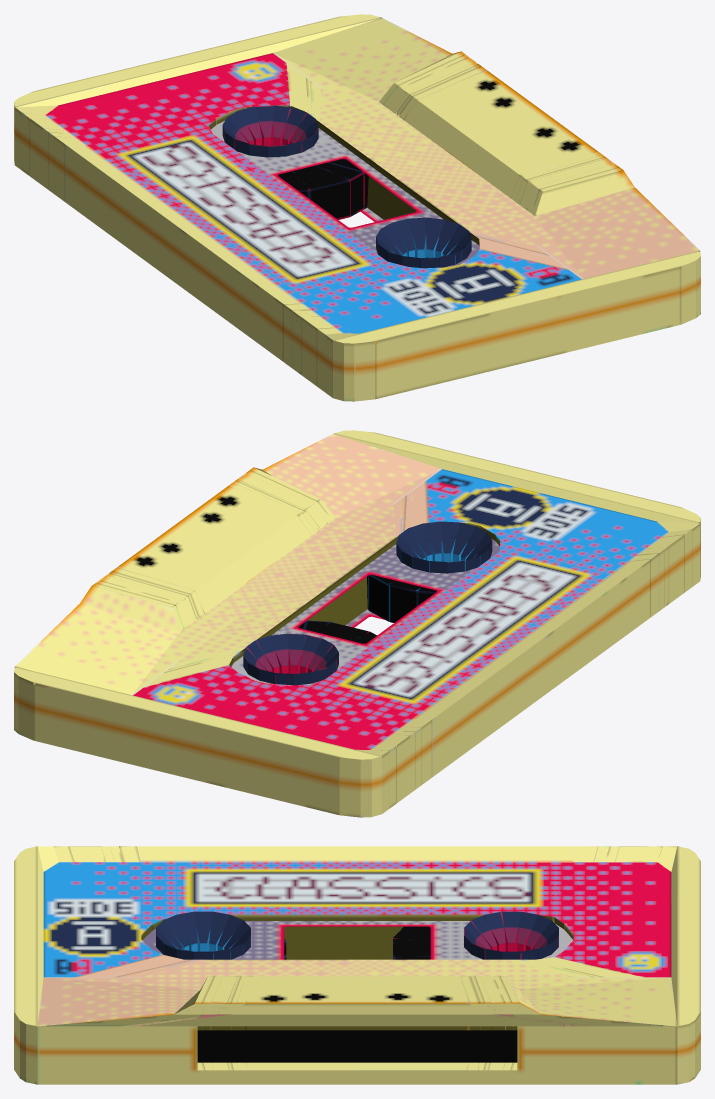
The model's file is Floating Casette finished case only.fbx.
3 views of the same model, one above another, from view 1: azimuth 30°, elevation 25°; view 2: azimuth 150°, elevation 25°; view 3: azimuth 270°, elevation 25° (orthographic).
Parts seen in each view (by area): view 1: cube, cylinder_1, plane_1, cylinder; view 2: cube, cylinder, cylinder_1, plane_1; view 3: cube, cube_1, cylinder_1, plane_1, cylinder.
Boxes of the visible parts, bbox=[...] form: cube: bbox=[14, 14, 700, 401]; cylinder_1: bbox=[222, 105, 368, 219]; plane_1: bbox=[211, 105, 479, 267]; cylinder: bbox=[376, 217, 471, 268]; cube: bbox=[14, 430, 700, 817]; cylinder: bbox=[367, 521, 492, 622]; cylinder_1: bbox=[243, 620, 376, 685]; plane_1: bbox=[231, 539, 499, 685]; cube: bbox=[14, 846, 700, 1084]; cube_1: bbox=[197, 1030, 517, 1062]; cylinder_1: bbox=[393, 911, 558, 959]; plane_1: bbox=[142, 921, 572, 959]; cylinder: bbox=[156, 911, 286, 959].
Bounding box in the file's own units: 56.64 × 12.81 × 90.62.
5 materials, 5 textured.
